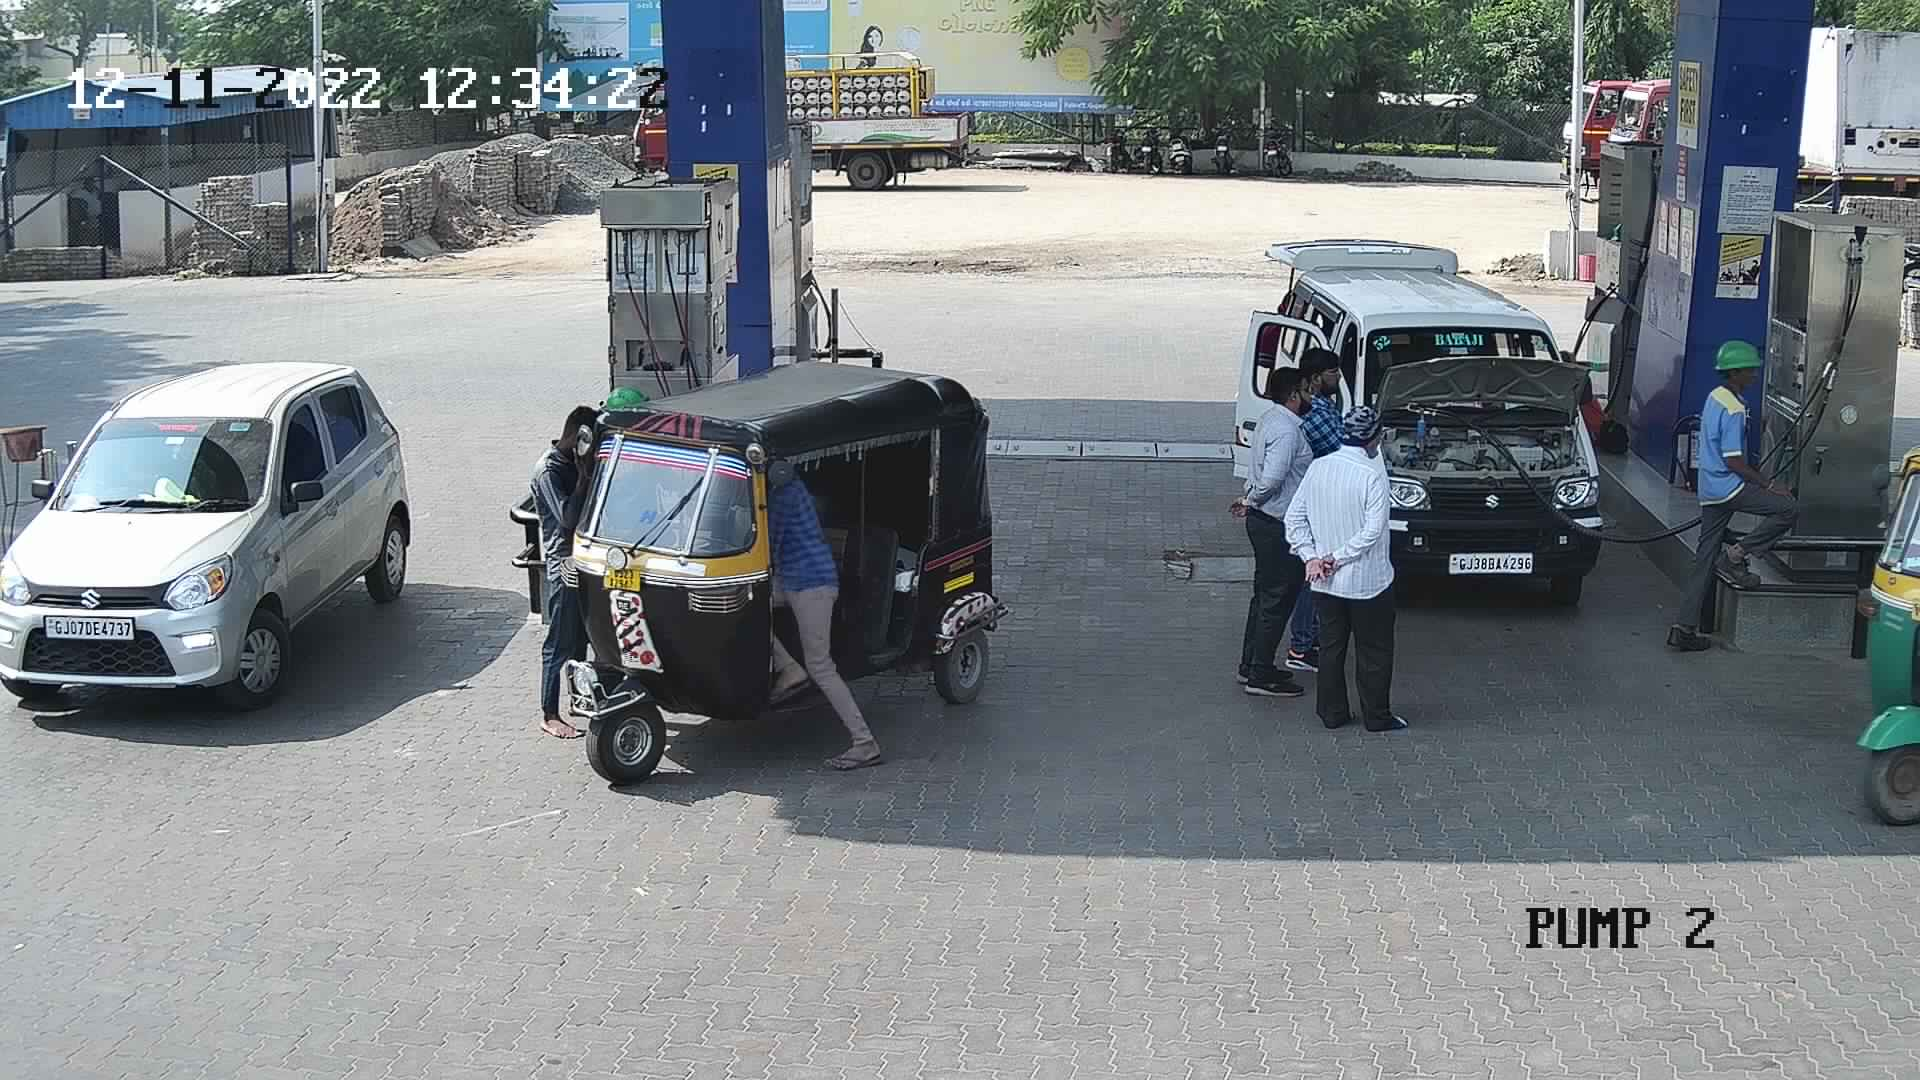Auto: (551, 335, 1006, 785), (1834, 368, 1920, 847)
Bike: (1254, 109, 1300, 175), (1154, 111, 1197, 175), (1203, 113, 1244, 175), (1124, 117, 1164, 175), (1091, 117, 1133, 173)
Car: (4, 353, 425, 732), (1228, 231, 1618, 613)
HMV: (666, 16, 994, 185), (1785, 7, 1917, 218), (1539, 65, 1679, 194), (1596, 69, 1676, 152)
Others: (1651, 324, 1797, 659), (601, 373, 659, 436)
